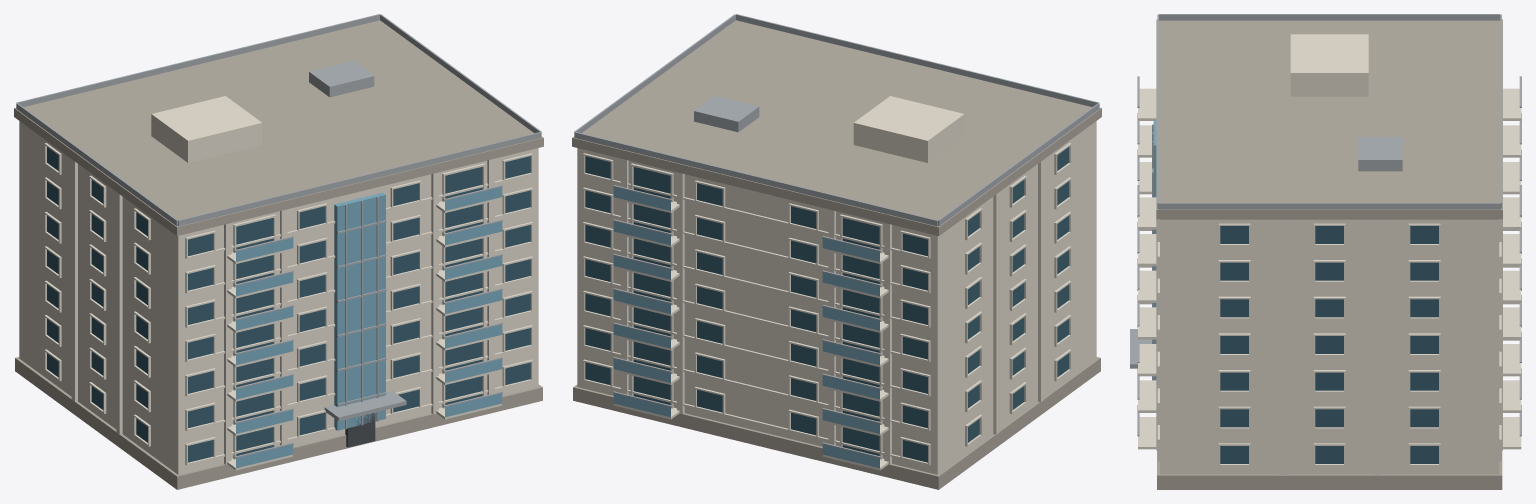
The model's file is midrise_a.glb.
The picture shows the model from 3 angles, left to right: view 1: azimuth 30°, elevation 25°; view 2: azimuth 150°, elevation 25°; view 3: azimuth 270°, elevation 25°; orthographic projection. The views are drawn at different scales.
Visible parts, largest first — view 1: Merged_HeroPlaster, Merged_HeroStone, Merged_HeroTrim, Merged_WindowGlassDark, Merged_FacadeGlass, Merged_PropsMetal, mid_door; view 2: Merged_HeroPlaster, Merged_HeroStone, Merged_HeroTrim, Merged_WindowGlassDark, Merged_PropsMetal, Merged_FacadeGlass; view 3: Merged_HeroPlaster, Merged_HeroStone, Merged_HeroTrim, Merged_WindowGlassDark, Merged_PropsMetal.
Part boxes in pixels (left/top/right/bottom): Merged_HeroPlaster: left=19, top=96, right=538, bottom=474; Merged_HeroStone: left=14, top=20, right=543, bottom=489; Merged_HeroTrim: left=44, top=143, right=532, bottom=470; Merged_WindowGlassDark: left=47, top=147, right=530, bottom=462; Merged_FacadeGlass: left=236, top=187, right=502, bottom=468; Merged_PropsMetal: left=16, top=14, right=541, bottom=458; mid_door: left=345, top=413, right=375, bottom=447; Merged_HeroPlaster: left=577, top=96, right=1096, bottom=474; Merged_HeroStone: left=572, top=20, right=1101, bottom=489; Merged_HeroTrim: left=583, top=143, right=1071, bottom=470; Merged_WindowGlassDark: left=585, top=147, right=1068, bottom=462; Merged_PropsMetal: left=574, top=14, right=1099, bottom=458; Merged_FacadeGlass: left=613, top=187, right=879, bottom=468; Merged_HeroPlaster: left=1160, top=34, right=1499, bottom=474; Merged_HeroStone: left=1156, top=19, right=1502, bottom=489; Merged_HeroTrim: left=1138, top=88, right=1521, bottom=475; Merged_WindowGlassDark: left=1220, top=226, right=1438, bottom=463; Merged_PropsMetal: left=1130, top=14, right=1521, bottom=436.
Size of the model in its own units: 34.6 by 25.7 by 30.04.
